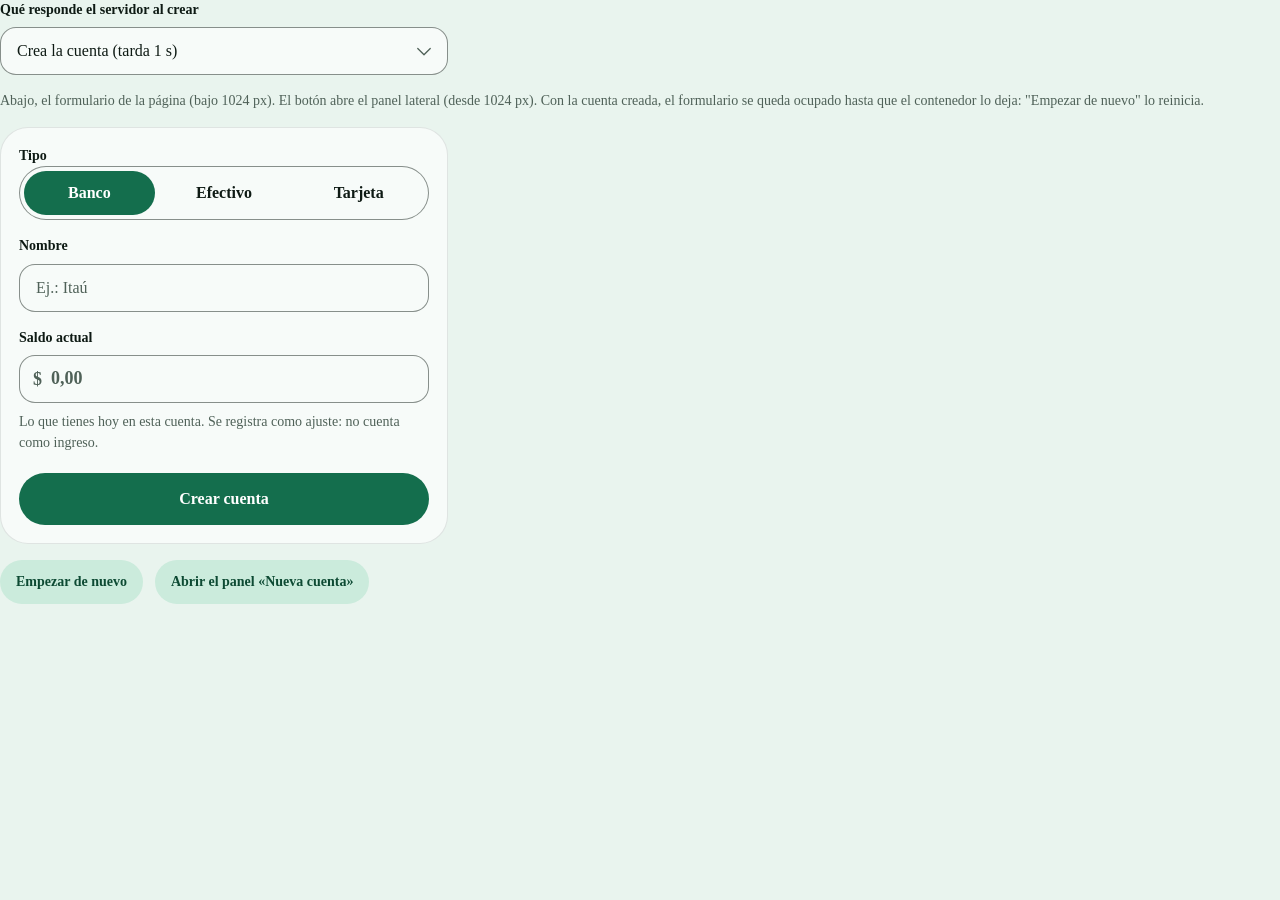
AccountFormDemo › opens the panel with the same server
The image size is (1280, 900).
What coordinates should you click on to do the following:
click the button "Abrir el panel «Nueva cuenta»"
I would click on:
 (262, 582)
Its box is [155,560,370,604].
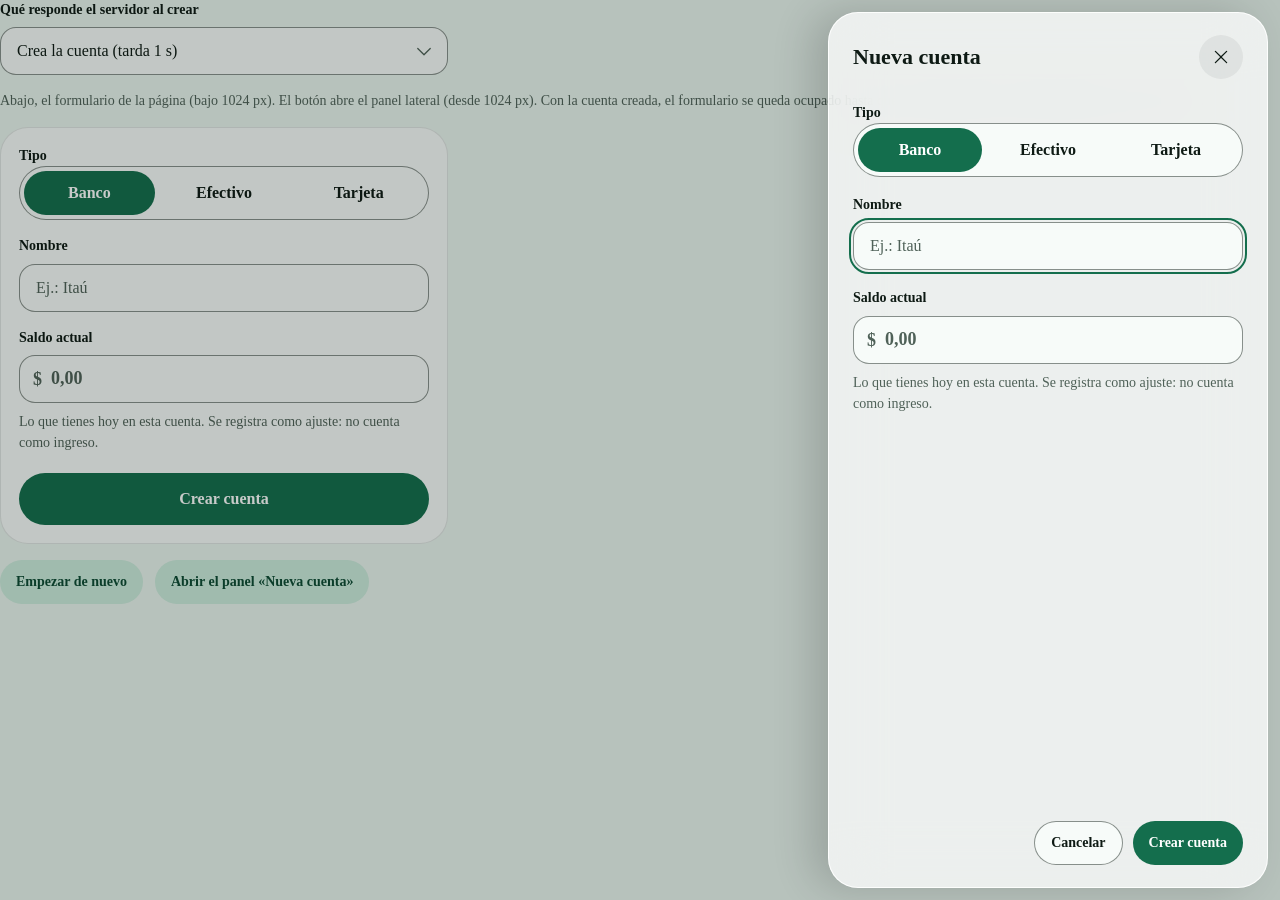
expect the dialog "Nueva cuenta" is shown: met, box [828,12,1268,888]
